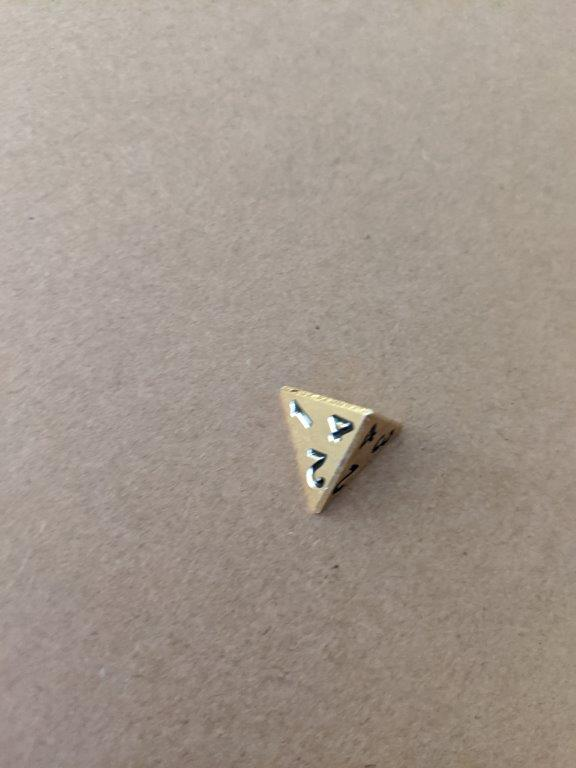d4-4: (278, 381, 403, 517)
